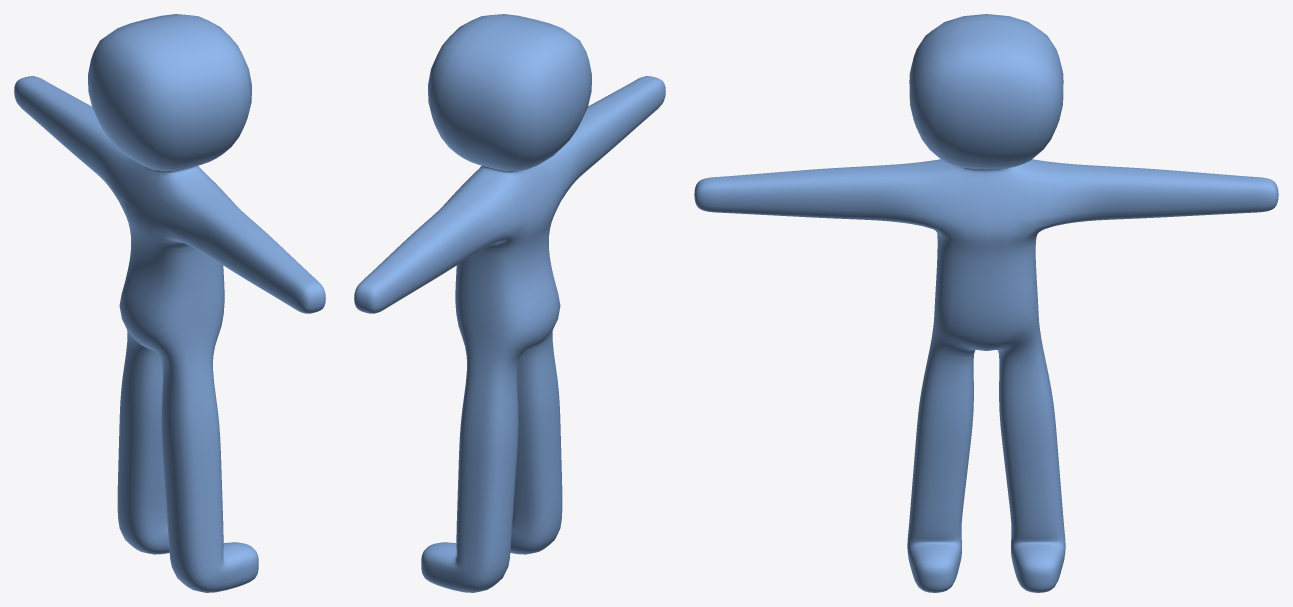
Rendered from stickman.fbx.
3 views of the same model, side by side, from view 1: azimuth 30°, elevation 25°; view 2: azimuth 150°, elevation 25°; view 3: azimuth 270°, elevation 25° (orthographic).
Visible parts, largest first — view 1: Cube; view 2: Cube; view 3: Cube.
Boxes of the visible parts, bbox=[...] form: Cube: bbox=[14, 14, 325, 592]; Cube: bbox=[354, 14, 665, 592]; Cube: bbox=[694, 14, 1278, 592].
Bounding box in the file's own units: 128 × 518 × 506.
